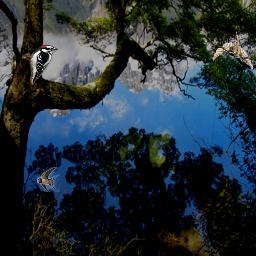Swallow: (213, 31, 253, 70), (37, 167, 60, 192)
Woodpecker: (22, 45, 58, 85)
